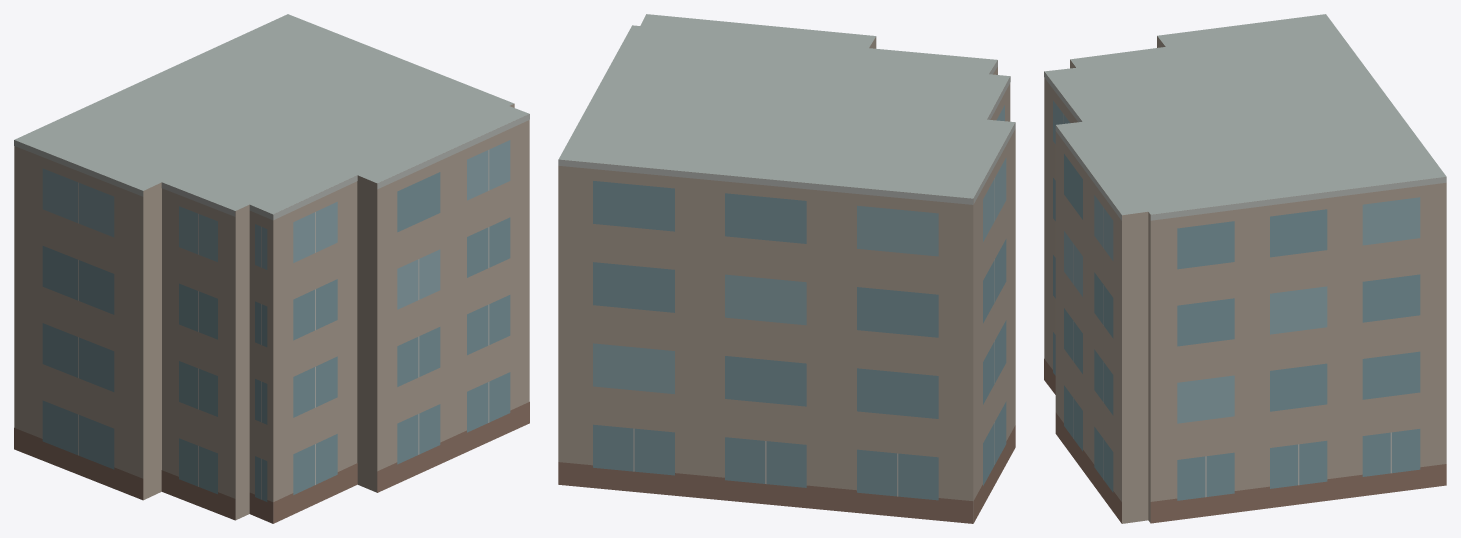
File: survey-upis-32620516.glb
3 renders of one model, left to right at view 1: azimuth 30°, elevation 25°; view 2: azimuth 150°, elevation 25°; view 3: azimuth 270°, elevation 25°, orthographic. The views are drawn at different scales.
Visible parts, largest first — view 1: survey-upis-32620516.tmp; view 2: survey-upis-32620516.tmp; view 3: survey-upis-32620516.tmp.
Part boxes in pixels (x1,y1,x2,y2): survey-upis-32620516.tmp: [14, 14, 529, 523]; survey-upis-32620516.tmp: [558, 14, 1015, 523]; survey-upis-32620516.tmp: [1044, 14, 1446, 523].
Bounding box in the file's own units: 17.77 × 12.7 × 15.02.
